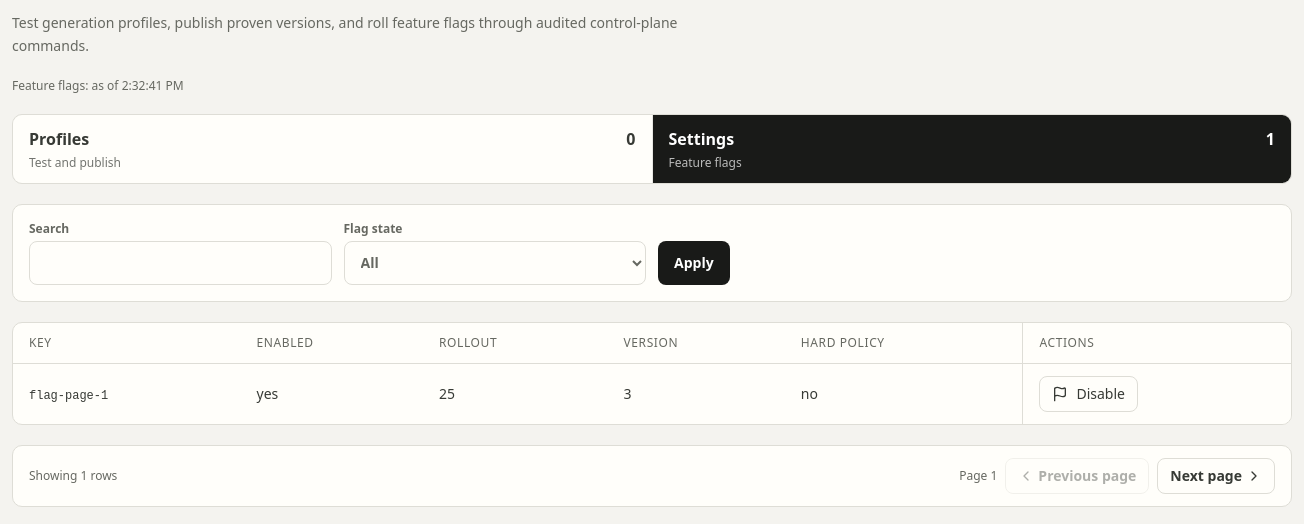
feature flags table › greys out Previous page until the operator has paged forward
Check: the button "Previous page" is disabled, box [1005, 458, 1149, 494]
Click the button "Next page" at (1216, 476), box [1157, 458, 1275, 494]
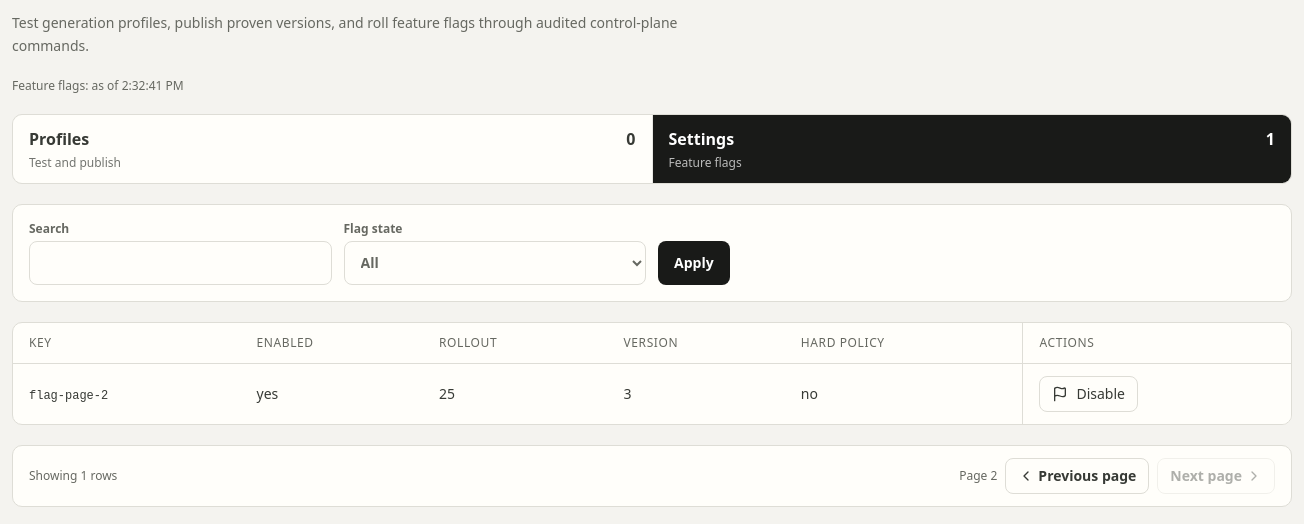
Check: the button "Previous page" is enabled, box [1005, 458, 1149, 494]
Check: the button "Next page" is disabled, box [1157, 458, 1275, 494]
